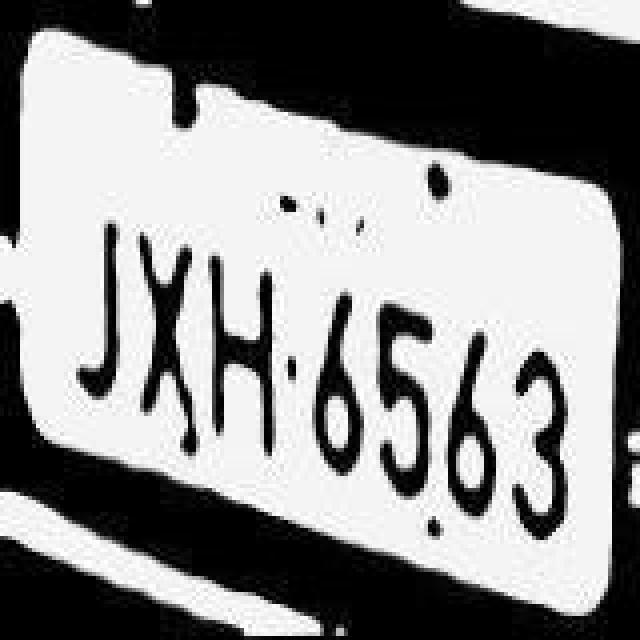3: (504, 292, 576, 552)
5: (372, 258, 436, 518)
6: (444, 280, 508, 524), (310, 258, 370, 518)
H: (208, 236, 280, 472)
J: (64, 164, 128, 424)
X: (136, 224, 208, 452)
